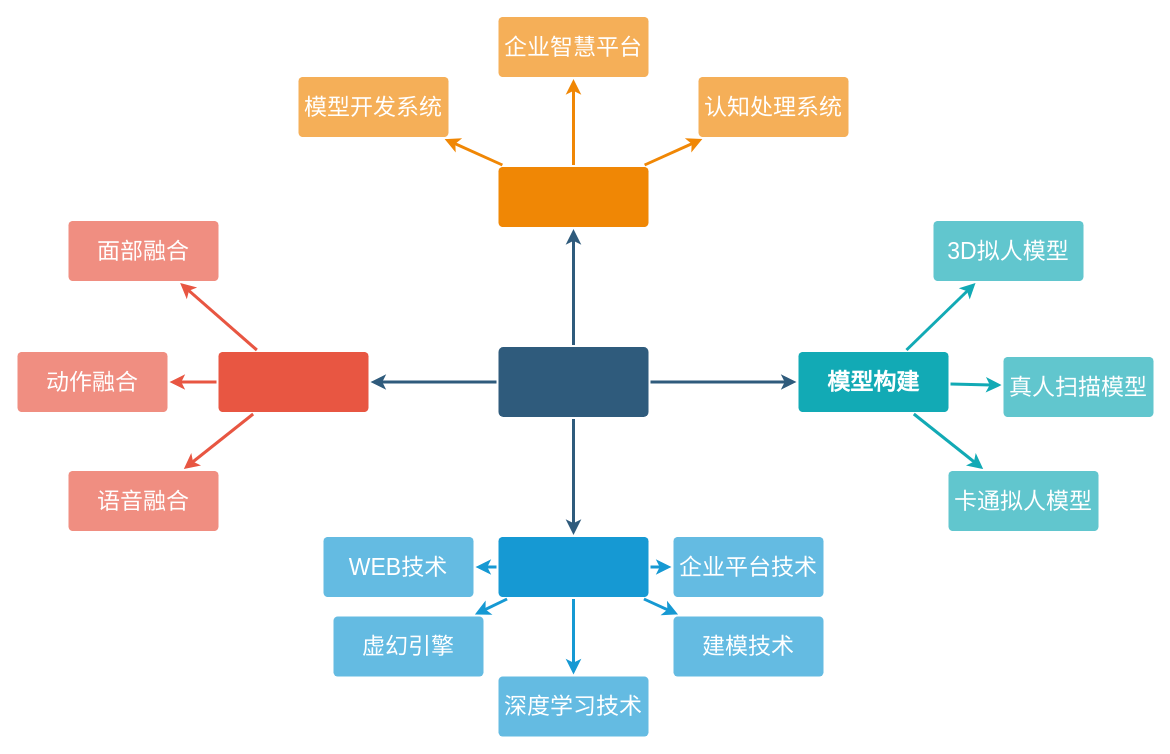
Some shapes in this 1170 by 754 pixel diagram are drawn without their labels. The centre of each missing label's shape, as x and y in pixels:
技术涉及: [573,566]
框架整合: [573,196]
虚拟教师: [573,381]
行为融合: [293,382]
